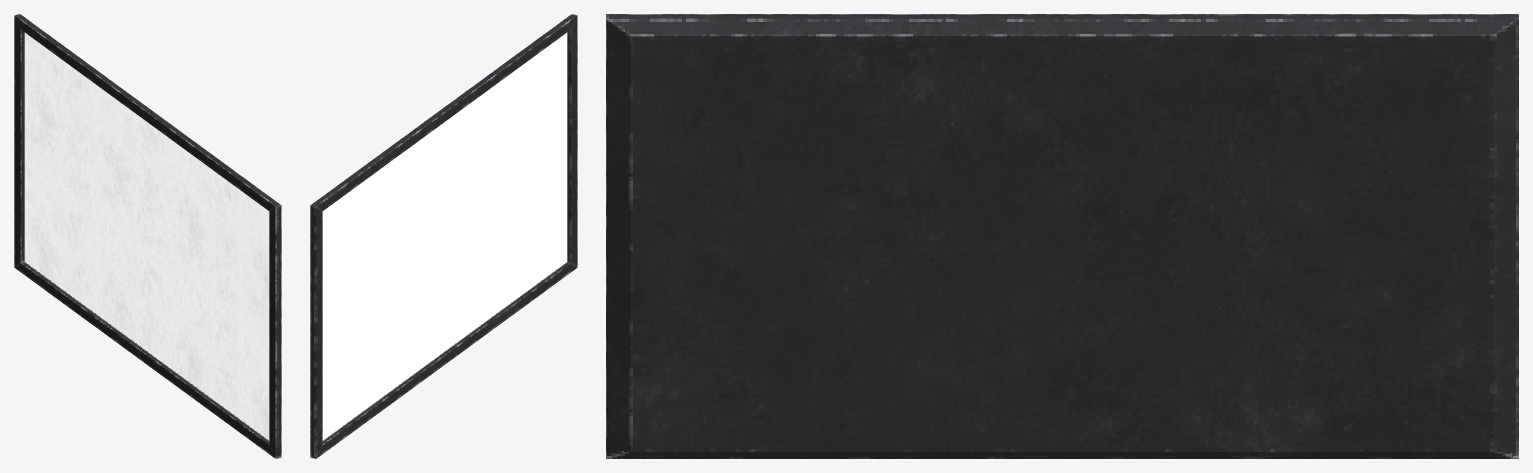
3 views of the same model, side by side, from view 1: azimuth 30°, elevation 25°; view 2: azimuth 150°, elevation 25°; view 3: azimuth 270°, elevation 25° (orthographic). The views are drawn at different scales.
Visible parts, largest first — view 1: TV-col; view 2: TV-col; view 3: TV-col.
Part boxes in pixels (x1,y1,x2,y2): TV-col: (14,14,281,458); TV-col: (310,14,577,458); TV-col: (606,14,1518,458).
Bounding box in the file's own units: 0.1094 × 2.22 × 4.18.
1 material, 1 textured.
